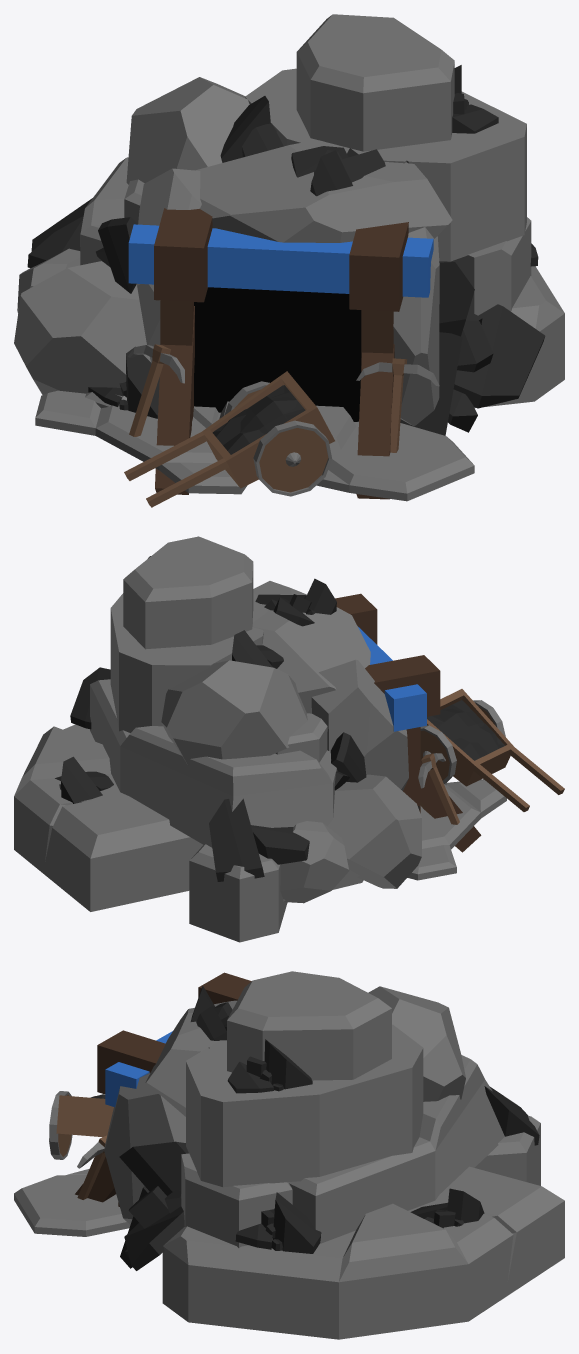
The model's file is Mine LvL 2.fbx.
The picture shows the model from 3 angles, top to bottom: view 1: azimuth 30°, elevation 25°; view 2: azimuth 150°, elevation 25°; view 3: azimuth 270°, elevation 25°; orthographic projection. The views are drawn at different scales.
Visible parts, largest first — view 1: Mine.001, Team Color Obj.002; view 2: Mine.001, Team Color Obj.002; view 3: Mine.001, Team Color Obj.002.
Part boxes in pixels (x1,y1,x2,y2): Mine.001: (14,14,564,507); Team Color Obj.002: (128,224,433,297); Mine.001: (14,536,564,942); Team Color Obj.002: (358,627,426,731); Mine.001: (14,971,564,1339); Team Color Obj.002: (105,1031,172,1107).
Bounding box in the file's own units: 148 × 92.95 × 160.
